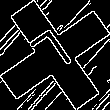L_SE: (28, 26, 82, 84)
